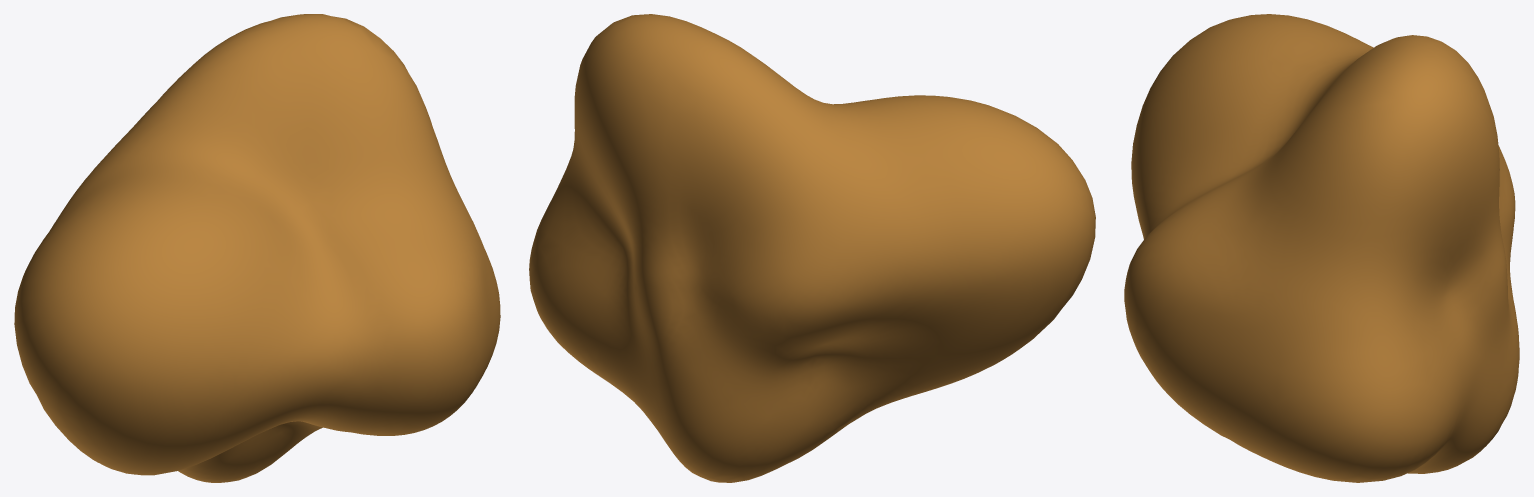
The model's file is buble2.glb.
3 renders of one model, left to right at view 1: azimuth 30°, elevation 25°; view 2: azimuth 150°, elevation 25°; view 3: azimuth 270°, elevation 25°, orthographic. The views are drawn at different scales.
Visible parts, largest first — view 1: Icosphere.002; view 2: Icosphere.002; view 3: Icosphere.002.
Part boxes in pixels (bbox=[...]): Icosphere.002: bbox=[14, 14, 500, 482]; Icosphere.002: bbox=[529, 14, 1095, 482]; Icosphere.002: bbox=[1124, 14, 1519, 482].
Size of the model in its own units: 4.48 by 3.73 by 2.97.
